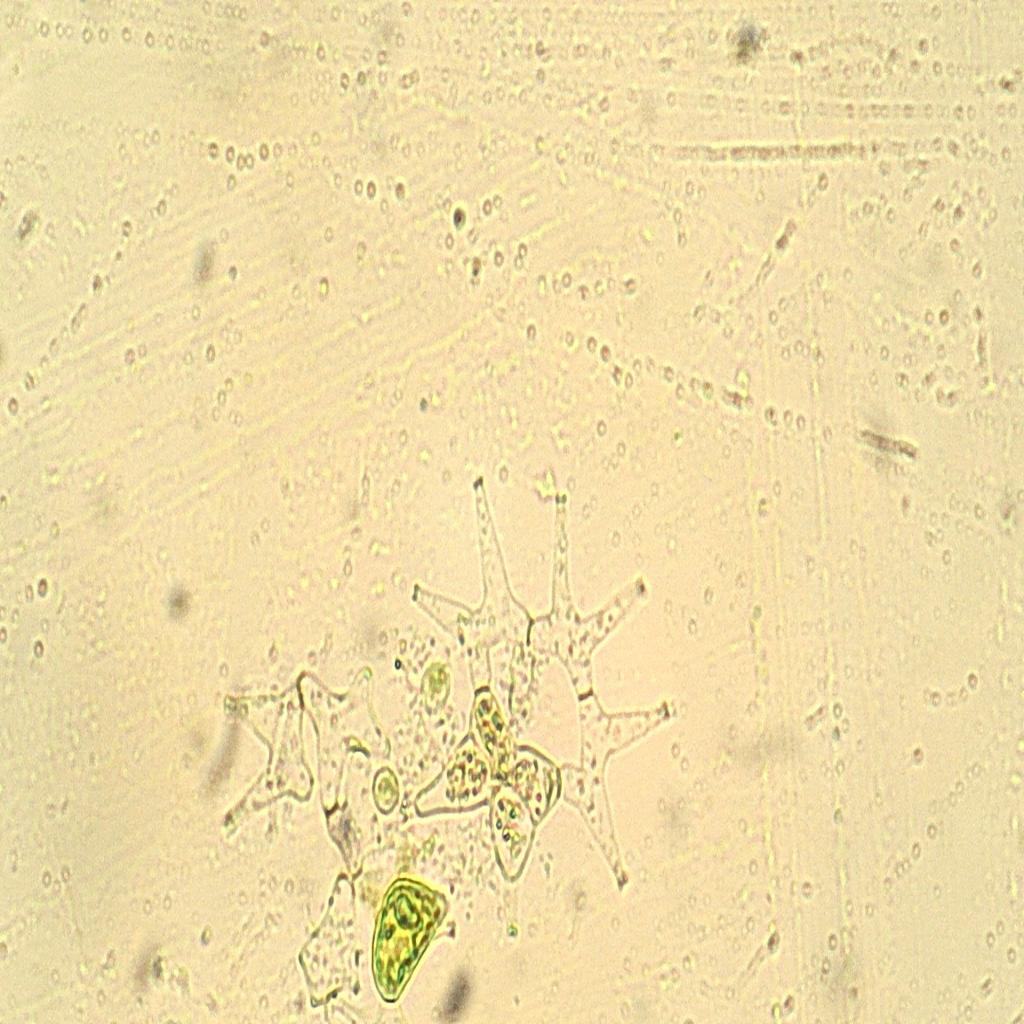Pediastrum_75TH: (378, 424, 694, 920)
